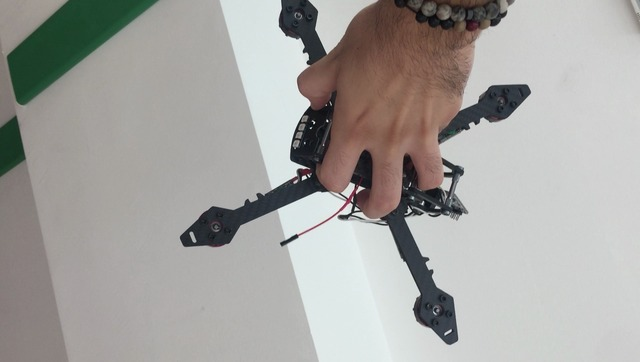drone: (178, 0, 534, 345)
